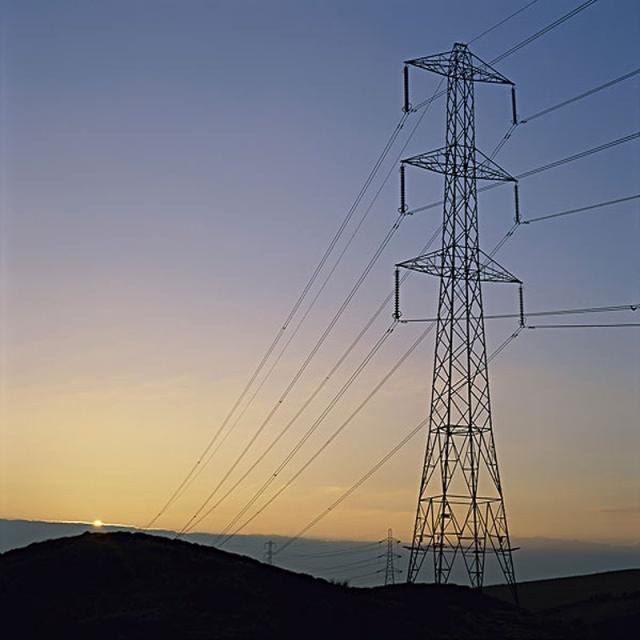non-critical vegetation: (399, 42, 546, 574)
